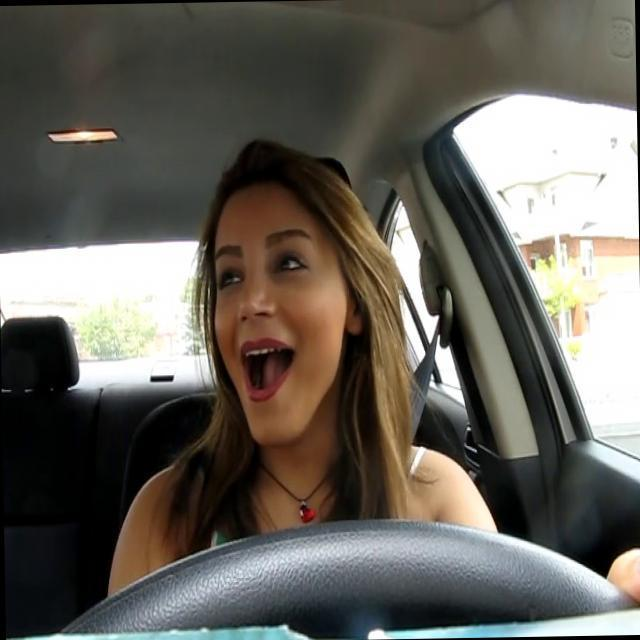open-mouth: (238, 341, 296, 400)
